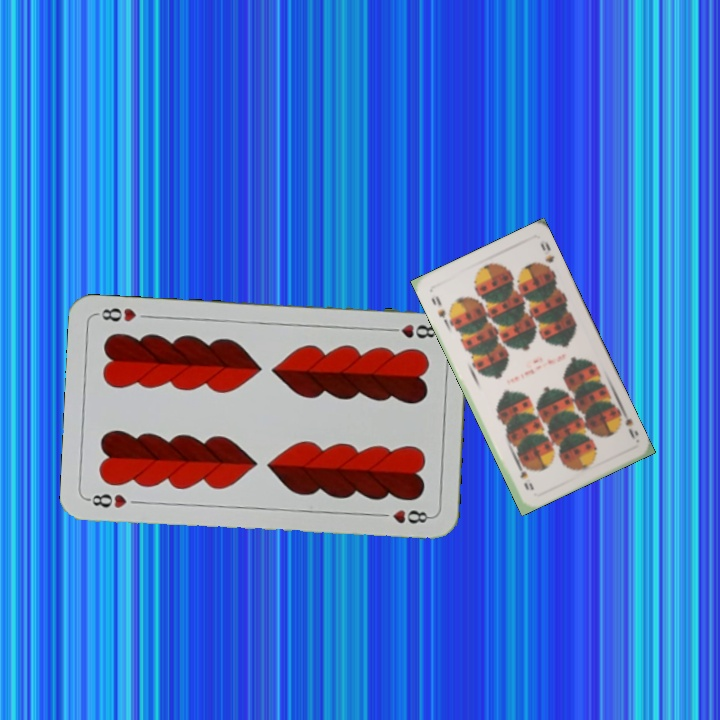H8: (383, 320, 442, 341), (84, 490, 129, 511)
S9: (612, 405, 641, 443), (427, 291, 453, 324)
